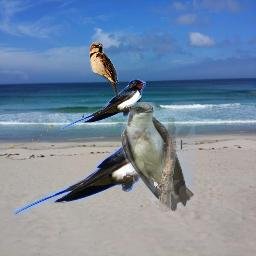Swallow: (12, 126, 163, 215), (121, 102, 195, 213), (60, 79, 146, 130), (89, 42, 119, 99)
